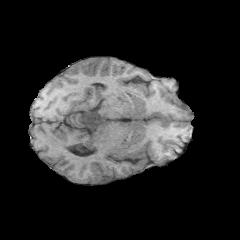glioma: (82, 110, 109, 143)
